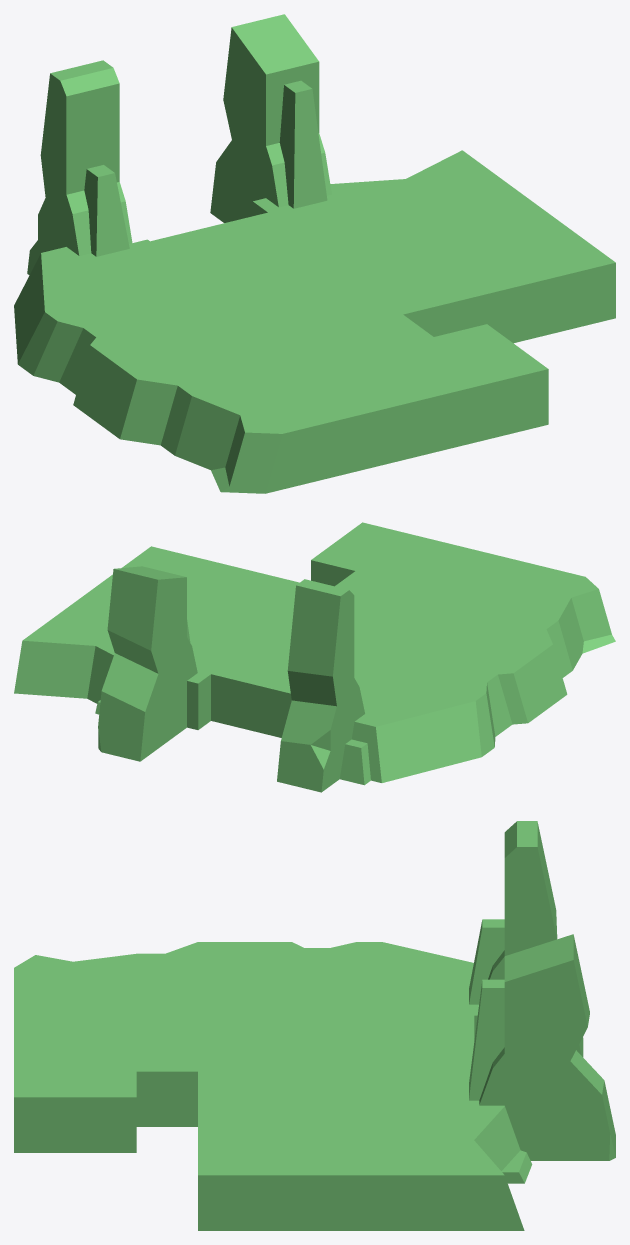
Rendered from x_zem_1_9_cave_lock1_rmstrd.fbx.
The picture shows the model from 3 angles, top to bottom: view 1: azimuth 30°, elevation 25°; view 2: azimuth 150°, elevation 25°; view 3: azimuth 270°, elevation 25°; orthographic projection. The views are drawn at different scales.
Parts seen in each view (by area): view 1: x_zem_1_9_cave_lock1_rmstrd1; view 2: x_zem_1_9_cave_lock1_rmstrd1; view 3: x_zem_1_9_cave_lock1_rmstrd1.
Boxes of the visible parts, x1,y1,x2,y2 form: x_zem_1_9_cave_lock1_rmstrd1: (14, 14, 615, 493); x_zem_1_9_cave_lock1_rmstrd1: (14, 522, 615, 792); x_zem_1_9_cave_lock1_rmstrd1: (14, 821, 615, 1230).
Size of the model in its own units: 9.32 by 3.9 by 9.81.
